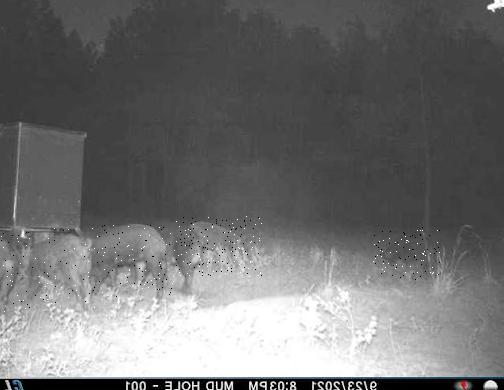Hog: (0, 228, 96, 312), (84, 225, 175, 301), (176, 216, 262, 277), (373, 227, 440, 280)
